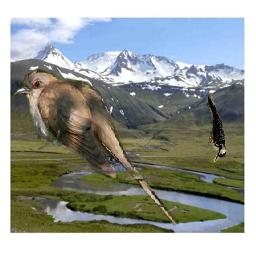Cuckoo: (12, 68, 176, 226)
Woodpecker: (204, 90, 229, 163)
